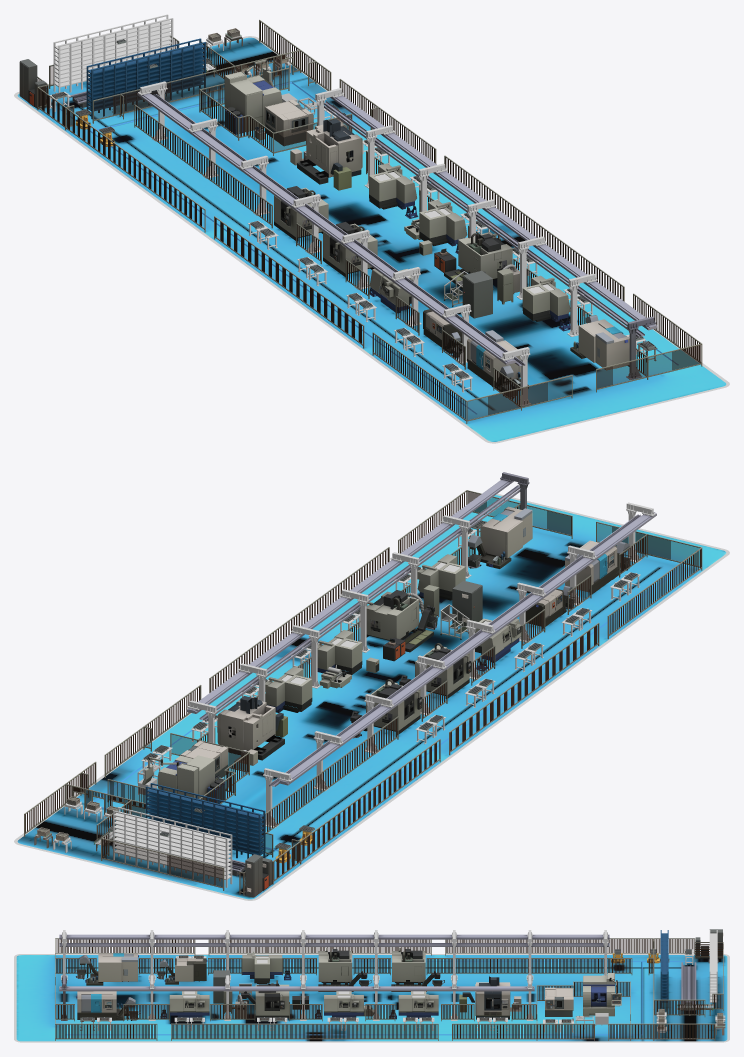
The picture shows the model from 3 angles, top to bottom: view 1: azimuth 30°, elevation 25°; view 2: azimuth 150°, elevation 25°; view 3: azimuth 270°, elevation 25°; orthographic projection. The views are drawn at different scales.
Visible parts, largest first — view 1: XIAN12, zha_lan_wang, ji_xie_bi_tian_gui, zha_lan_jia, xian_wei_qu_yu_huo_jia, xian_wei_qu_yu_huo_jia_sl, xian12_she_bei_11, xian12_di_mian_kuang, 4702023_group, 2140169_group, 2240213_group, 2703032_group (+11 smaller); view 2: XIAN12, zha_lan_wang, ji_xie_bi_tian_gui, zha_lan_jia, xian_wei_qu_yu_huo_jia_sl, xian_wei_qu_yu_huo_jia, xian12_she_bei_11, xian12_di_mian_kuang, 2240213_group, 2140169_group, 4702023_group, 2740021_group (+11 smaller); view 3: XIAN12, zha_lan_wang, ji_xie_bi_tian_gui, zha_lan_jia, xian12_di_mian_kuang, 2140168_group, 2240211_group, 2240212_group, xian12_AGV_di_xian, 2140169_group, xian12_she_bei_11, 4702023_group (+14 smaller).
Boxes of the visible parts, x1,y1,x2,y2 form: XIAN12: [17, 37, 726, 441]; zha_lan_wang: [37, 21, 700, 420]; ji_xie_bi_tian_gui: [137, 91, 657, 366]; zha_lan_jia: [37, 19, 702, 423]; xian_wei_qu_yu_huo_jia: [86, 38, 205, 119]; xian_wei_qu_yu_huo_jia_sl: [53, 14, 173, 92]; xian12_she_bei_11: [290, 119, 362, 190]; xian12_di_mian_kuang: [14, 36, 729, 443]; 4702023_group: [224, 59, 282, 134]; 2140169_group: [570, 315, 629, 370]; 2240213_group: [444, 232, 512, 289]; 2703032_group: [522, 275, 570, 331]; XIAN12: [17, 495, 726, 899]; zha_lan_wang: [25, 491, 701, 891]; ji_xie_bi_tian_gui: [186, 479, 656, 786]; zha_lan_jia: [24, 490, 702, 895]; xian_wei_qu_yu_huo_jia_sl: [113, 807, 232, 887]; xian_wei_qu_yu_huo_jia: [145, 783, 265, 858]; xian12_she_bei_11: [217, 696, 287, 765]; xian12_di_mian_kuang: [14, 493, 729, 900]; 2240213_group: [366, 590, 439, 652]; 2140169_group: [468, 506, 532, 568]; 4702023_group: [142, 755, 224, 803]; 2740021_group: [265, 666, 312, 712]; XIAN12: [16, 955, 727, 1041]; zha_lan_wang: [55, 939, 722, 1038]; ji_xie_bi_tian_gui: [59, 934, 609, 991]; zha_lan_jia: [55, 938, 723, 1040]; xian12_di_mian_kuang: [14, 954, 729, 1042]; 2140168_group: [74, 953, 138, 985]; 2240211_group: [318, 948, 371, 991]; 2240212_group: [391, 948, 444, 991]; xian12_AGV_di_xian: [65, 961, 690, 1035]; 2140169_group: [76, 991, 140, 1020]; xian12_she_bei_11: [459, 976, 521, 1019]; 4702023_group: [583, 973, 621, 1016].
Bounding box in the file's own units: 1556 × 337 × 5306.
